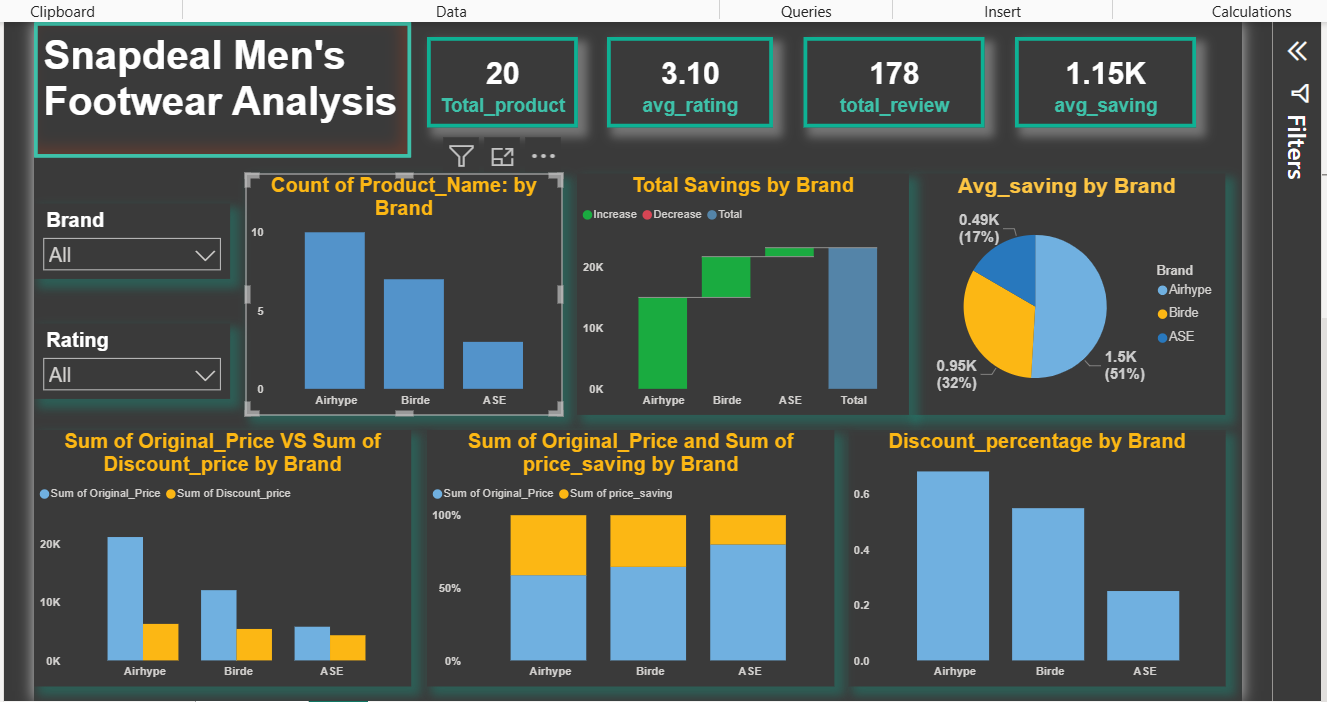

What the dashboard file says about the page in this screenshot:
{"tool":"powerbi","page":{"name":"Page 1","canvas":[1280,720],"ordinal":0},"visuals":[{"type":"card","fields":{"Values":["Men's_sports_shoes_datasettt.Total_product"]},"box":[416,16,160,96],"z":0},{"type":"card","fields":{"Values":["Men's_sports_shoes_datasettt.avg_rating"]},"box":[608,16,176,96],"z":1000},{"type":"card","fields":{"Values":["Men's_sports_shoes_datasettt.total_review"]},"box":[816,16,192,96],"z":2000},{"type":"textbox","box":[0,0,400,144],"z":3000},{"type":"columnChart","fields":{"Category":["Men's_sports_shoes_datasettt.Brand"],"Y":["CountNonNull(Men's_sports_shoes_datasettt.Product_Name:)"]},"box":[224,160,336,256],"z":4000},{"type":"clusteredColumnChart","title":"Sum of Original_Price VS Sum of Discount_price by Brand","fields":{"Y":["Sum(Men's_sports_shoes_datasettt.Original_Price)","Sum(Men's_sports_shoes_datasettt.Discount_price)"],"Category":["Men's_sports_shoes_datasettt.Brand"]},"box":[0,432,400,272],"z":5000},{"type":"columnChart","title":"Discount_percentage by Brand","fields":{"Category":["Men's_sports_shoes_datasettt.Brand"],"Y":["Men's_sports_shoes_datasettt.disc_perc"]},"box":[864,432,400,272],"z":6000},{"type":"slicer","fields":{"Values":["Men's_sports_shoes_datasettt.Brand"]},"box":[0,192,208,80],"z":7000},{"type":"slicer","fields":{"Values":["Men's_sports_shoes_datasettt.Rating"]},"box":[0,320,208,80],"z":8000},{"type":"pieChart","title":"Avg_saving by Brand","fields":{"Category":["Men's_sports_shoes_datasettt.Brand"],"Y":["Men's_sports_shoes_datasettt.avg_saving"]},"box":[928,160,336,256],"z":9000},{"type":"waterfallChart","title":"Total Savings  by Brand","fields":{"Y":["Sum(Men's_sports_shoes_datasettt.price_saving)"],"Category":["Men's_sports_shoes_datasettt.Brand"]},"box":[576,160,352,256],"z":10000},{"type":"hundredPercentStackedColumnChart","fields":{"Category":["Men's_sports_shoes_datasettt.Brand"],"Y":["Sum(Men's_sports_shoes_datasettt.Original_Price)","Sum(Men's_sports_shoes_datasettt.price_saving)"]},"box":[416,432,432,272],"z":11000},{"type":"card","fields":{"Values":["Men's_sports_shoes_datasettt.avg_saving"]},"box":[1040,16,192,96],"z":12000}]}

Visuals, with their boxes on the page's 1280x720 design canvas (x1, y1, x2, y2). These are canvas units, not pixel positions in the 1327x702 screenshot, which may show the page scaled, cropped or inside an application window:
card - Men's_sports_shoes_datasettt.Total_product: left=416, top=16, right=576, bottom=112
card - Men's_sports_shoes_datasettt.avg_rating: left=608, top=16, right=784, bottom=112
card - Men's_sports_shoes_datasettt.total_review: left=816, top=16, right=1008, bottom=112
textbox: left=0, top=0, right=400, bottom=144
columnChart - Men's_sports_shoes_datasettt.Brand x CountNonNull(Men's_sports_shoes_datasettt.Product_Name:): left=224, top=160, right=560, bottom=416
"Sum of Original_Price VS Sum of Discount_price by Brand" clusteredColumnChart: left=0, top=432, right=400, bottom=704
"Discount_percentage by Brand" columnChart: left=864, top=432, right=1264, bottom=704
slicer - Men's_sports_shoes_datasettt.Brand: left=0, top=192, right=208, bottom=272
slicer - Men's_sports_shoes_datasettt.Rating: left=0, top=320, right=208, bottom=400
"Avg_saving by Brand" pieChart: left=928, top=160, right=1264, bottom=416
"Total Savings  by Brand" waterfallChart: left=576, top=160, right=928, bottom=416
hundredPercentStackedColumnChart - Men's_sports_shoes_datasettt.Brand x Sum(Men's_sports_shoes_datasettt.Original_Price): left=416, top=432, right=848, bottom=704
card - Men's_sports_shoes_datasettt.avg_saving: left=1040, top=16, right=1232, bottom=112
